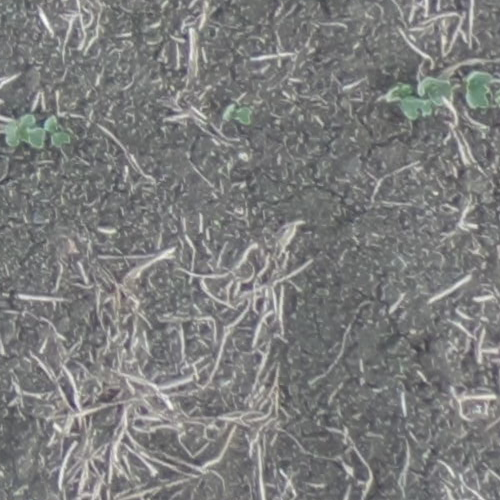plant: (6, 116, 45, 150), (419, 79, 449, 116), (393, 82, 419, 120), (468, 73, 491, 109), (45, 117, 70, 149), (229, 106, 252, 126)
